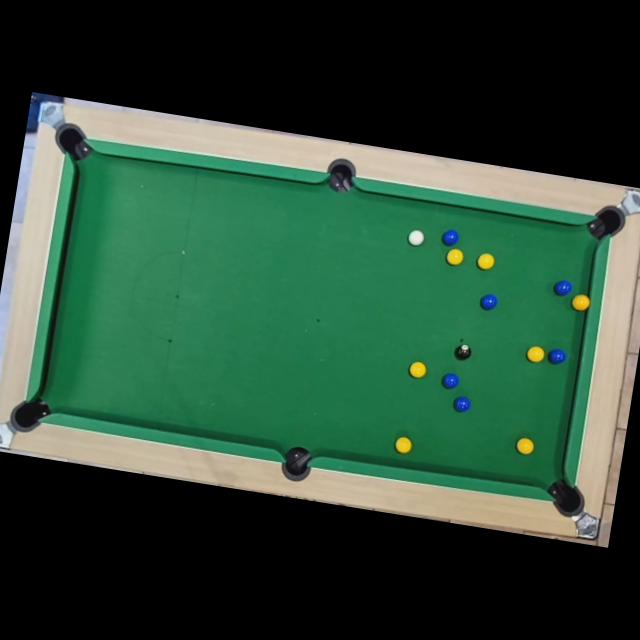Ball: (452, 395, 471, 413), (572, 293, 590, 312), (409, 361, 428, 379), (515, 438, 534, 456), (394, 436, 413, 454), (408, 229, 426, 247), (553, 280, 571, 298), (441, 372, 459, 390), (476, 254, 494, 272), (442, 228, 459, 246), (548, 348, 566, 365), (447, 250, 464, 267), (480, 294, 498, 310), (526, 346, 544, 362), (454, 344, 472, 359)
